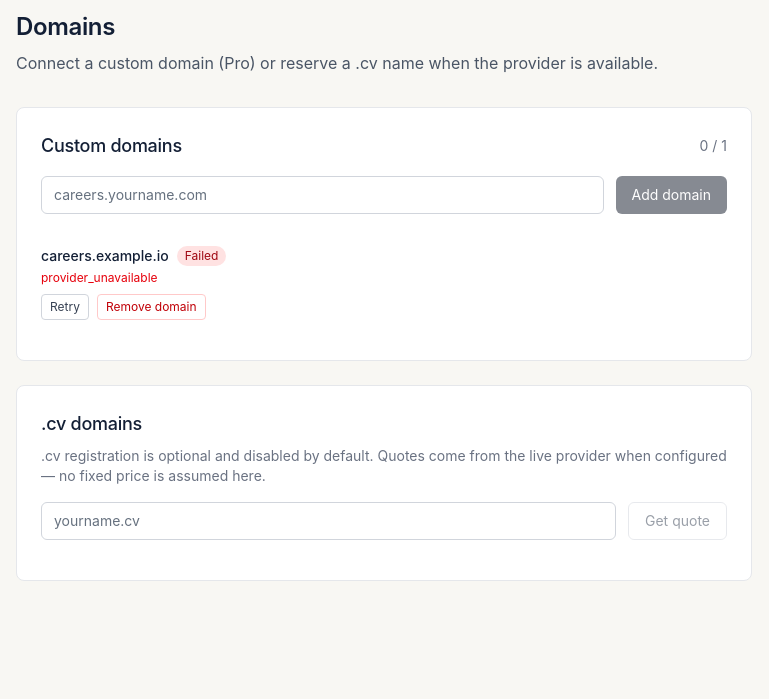
Test: Domains page: provider-accurate verification UI › 8. retry reuses the normal add flow for the SAME hostname, shows real instructions
This screenshot has width=769, height=699.
expect the text "Failed" is shown: met, box [177,246,226,266]
Click the button "Retry".
click(65, 307)  # box [41,294,89,320]
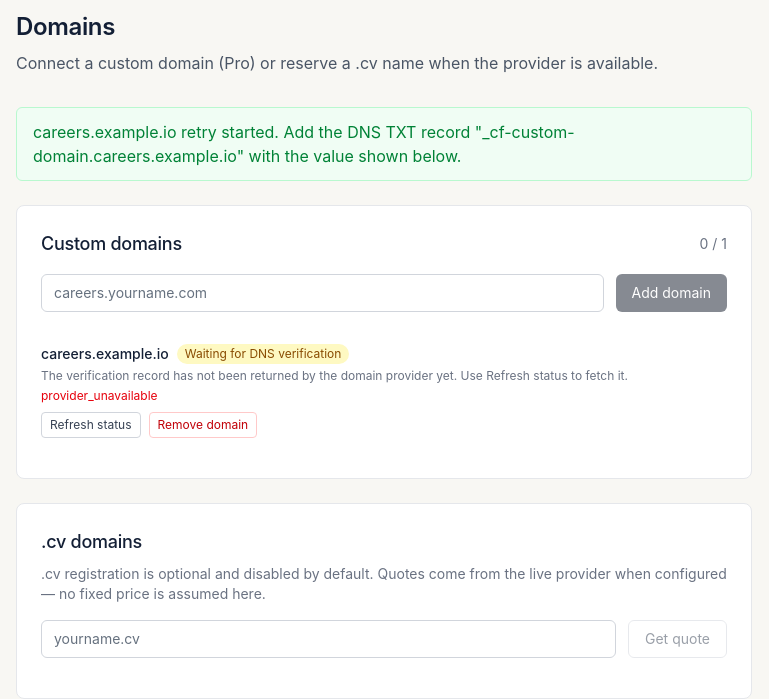
expect the text "Add the DNS TXT record" is shown: met, box [33,122,575,166]
